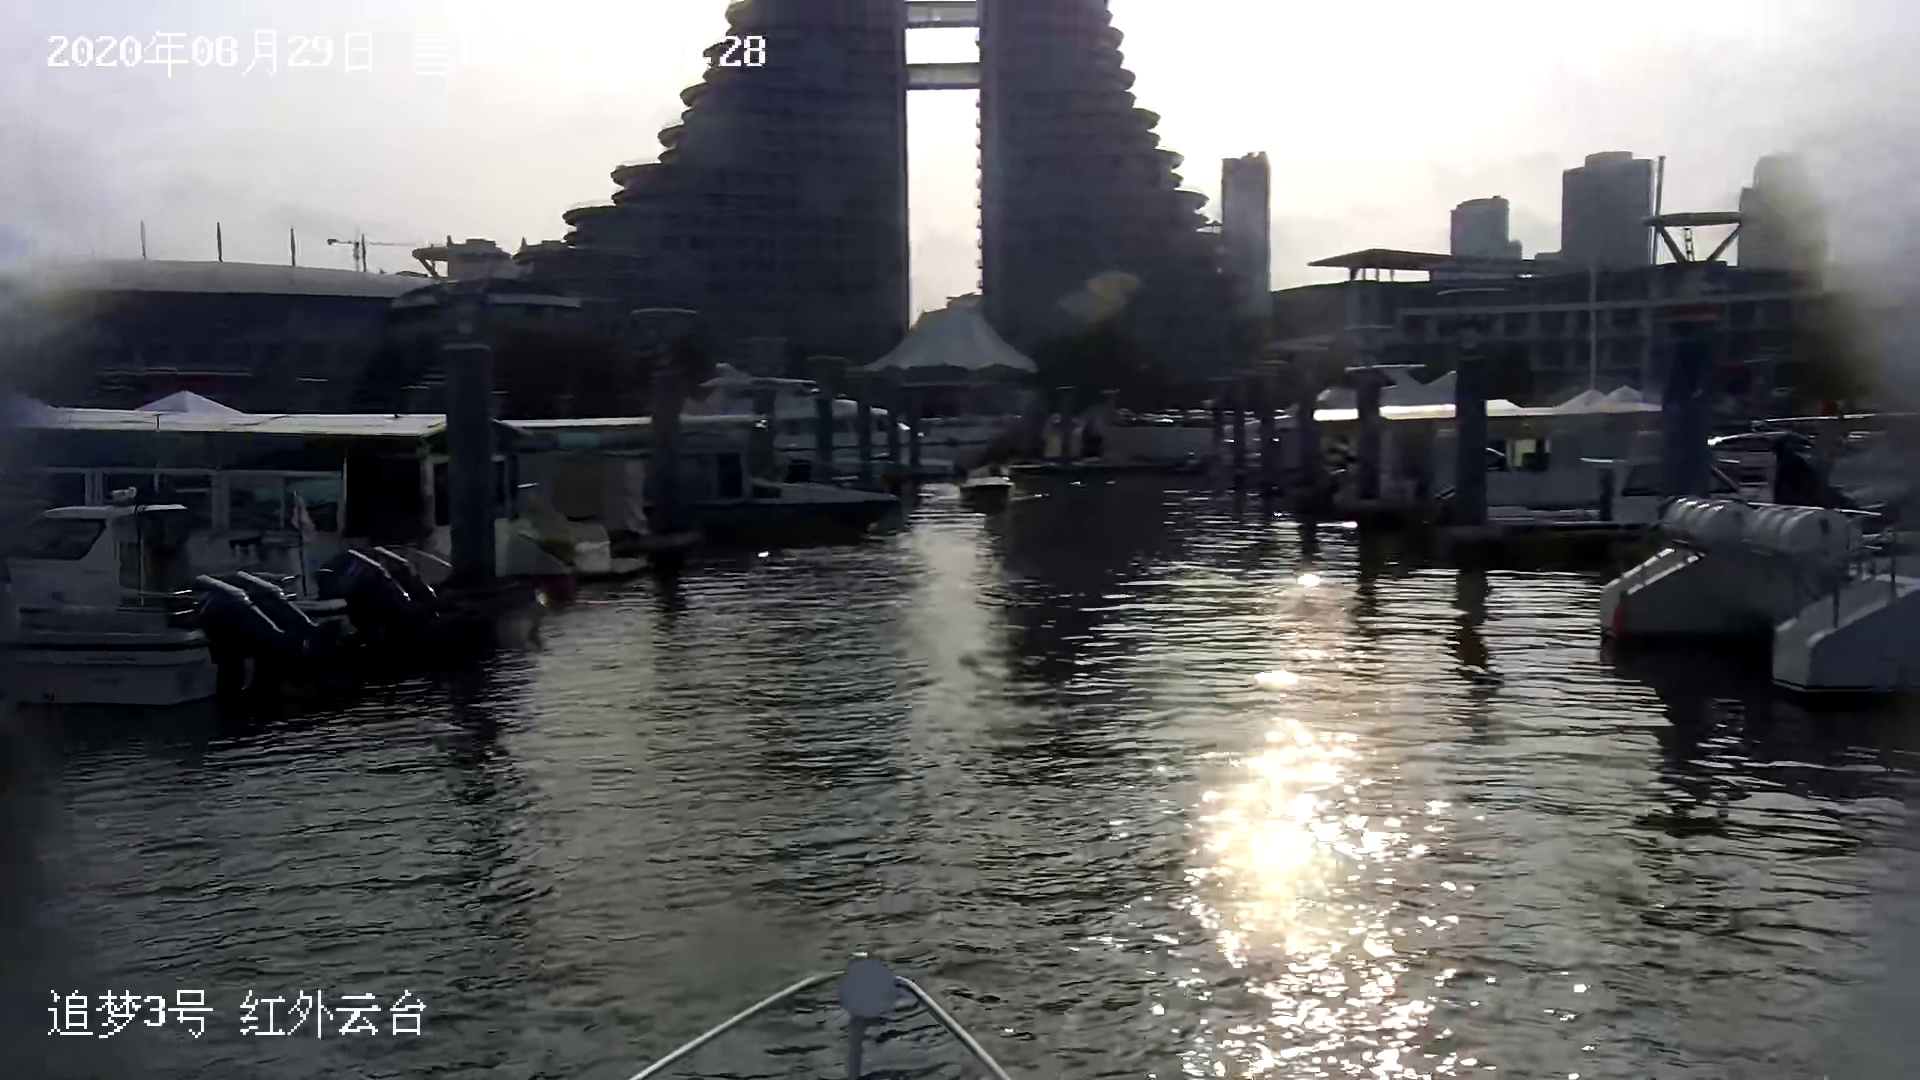coast: (12, 1, 1920, 709)
